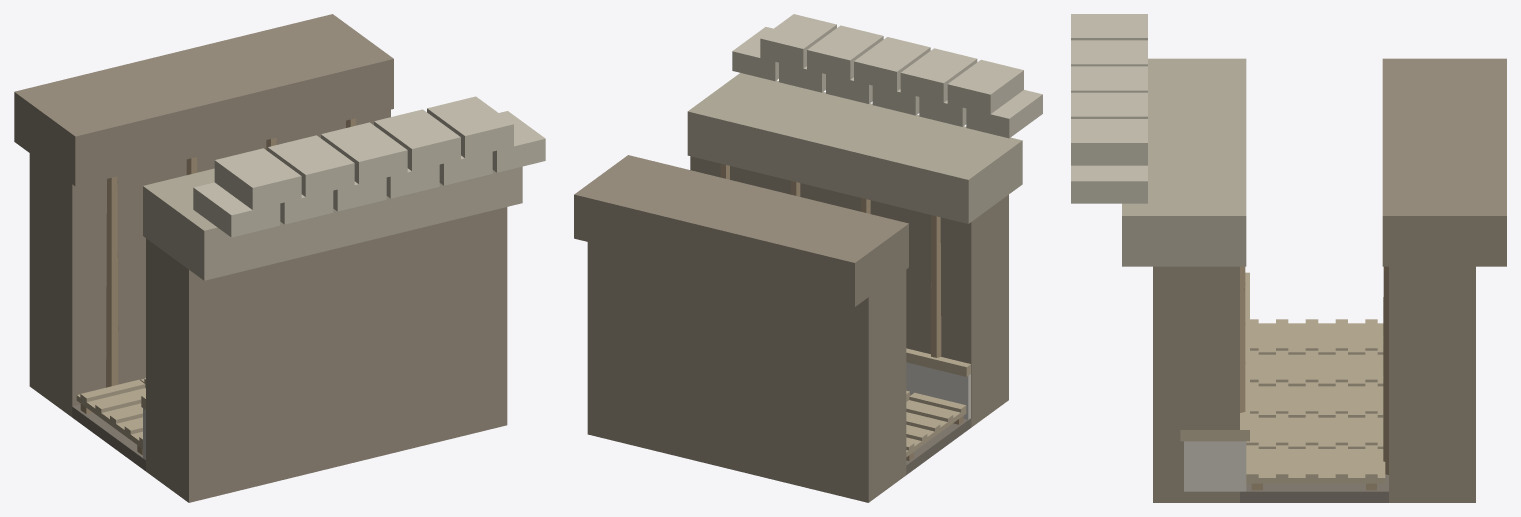
File: trench-line-1917-fire-bay-straight-3f35b777__24036.glb
3 renders of one model, left to right at view 1: azimuth 30°, elevation 25°; view 2: azimuth 150°, elevation 25°; view 3: azimuth 270°, elevation 25°, orthographic. The views are drawn at different scales.
Parts seen in each view (by area): view 1: fire-bay-straight; view 2: fire-bay-straight; view 3: fire-bay-straight.
Part boxes in pixels (bbox=[...]): fire-bay-straight: bbox=[14, 14, 545, 502]; fire-bay-straight: bbox=[574, 14, 1042, 502]; fire-bay-straight: bbox=[1071, 14, 1506, 502].
Bounding box in the file's own units: 3 × 3.05 × 3.51.
